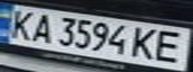3: (51, 15, 78, 48)
4: (106, 21, 133, 56)
5: (72, 17, 93, 51)
9: (87, 20, 112, 53)
A: (24, 11, 57, 44)
E: (148, 28, 190, 63)
K: (0, 7, 39, 42), (127, 25, 163, 61)
